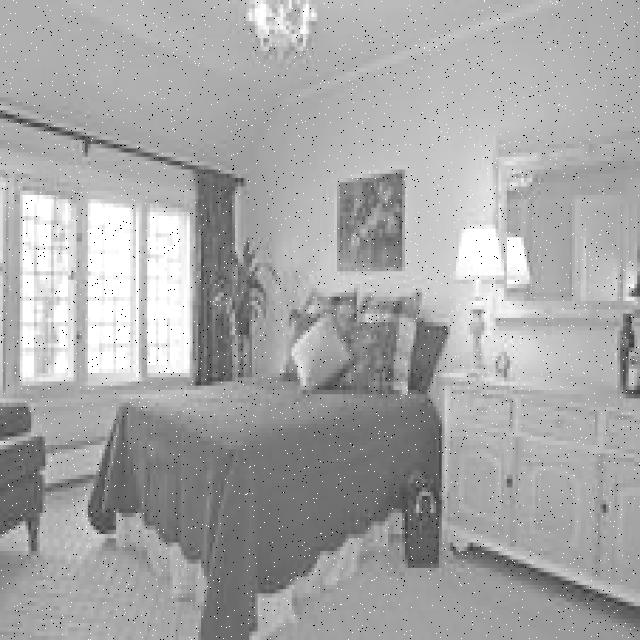bed: (109, 288, 448, 604)
